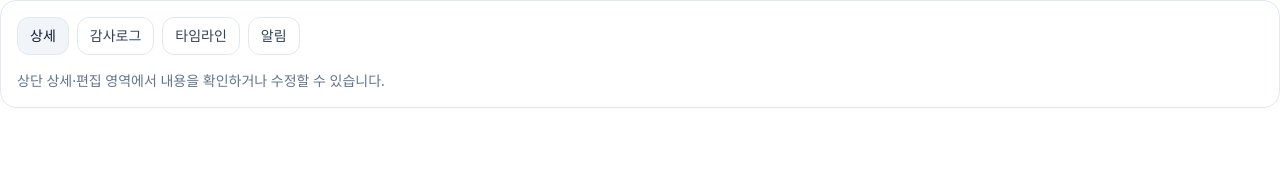
OpsQueueDetailTabs › 알림 탭 클릭 시 알림 데이터를 불러온다
Click the button "알림". click: (274, 36)
box: [248, 17, 300, 55]
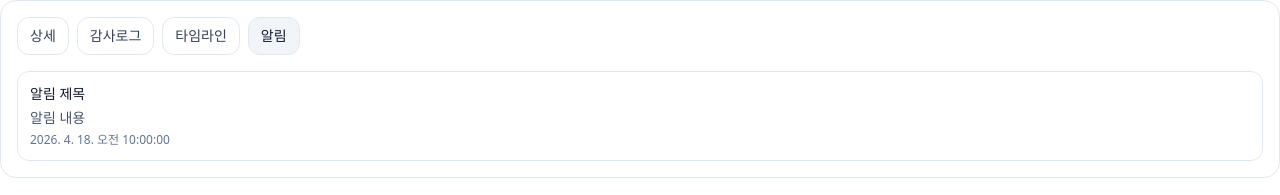
Expected: the text "알림 제목" is shown, [30, 84, 85, 103]
